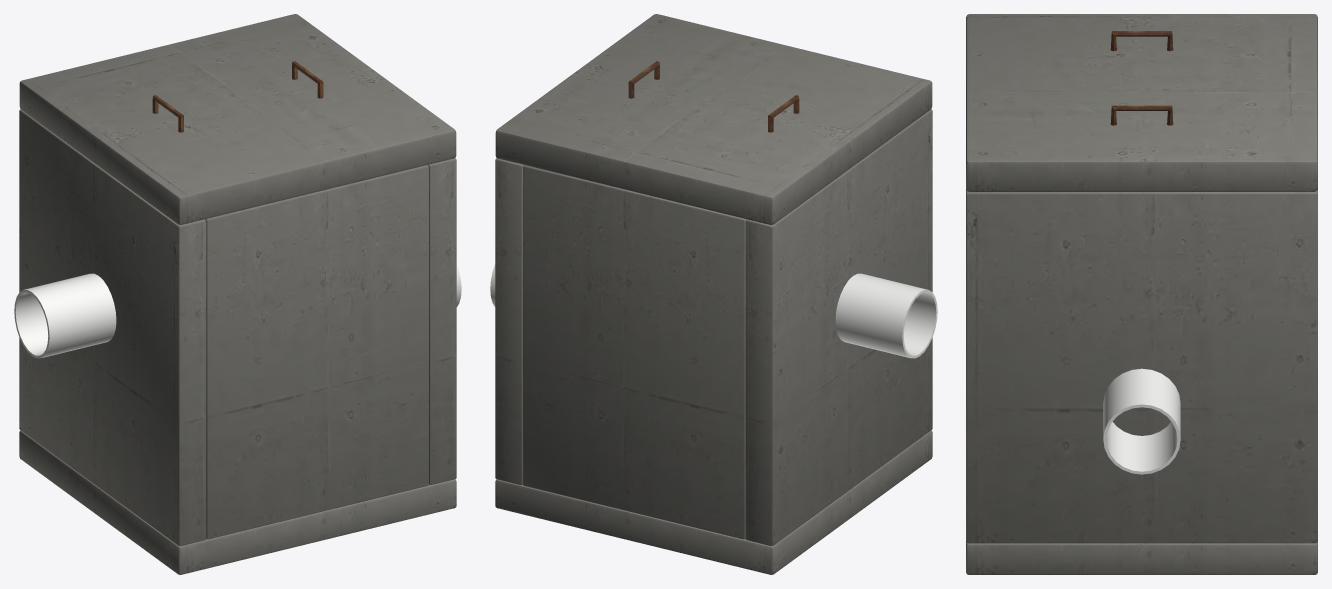
File: HID-CXS-004.glb
3 views of the same model, side by side, from view 1: azimuth 30°, elevation 25°; view 2: azimuth 150°, elevation 25°; view 3: azimuth 270°, elevation 25° (orthographic). The views are drawn at different scales.
Parts seen in each view (by area): view 1: HID-CXS-004_py-1, HID-CXS-004_tampa, HID-CXS-004_px-1, HID-CXS-004_fundo, HID-CXS-004_px1, HID-CXS-004_ent; view 2: HID-CXS-004_py1, HID-CXS-004_tampa, HID-CXS-004_px-1, HID-CXS-004_fundo, HID-CXS-004_px1, HID-CXS-004_ent; view 3: HID-CXS-004_px1, HID-CXS-004_tampa, HID-CXS-004_fundo, HID-CXS-004_sai, HID-CXS-004_alca1, HID-CXS-004_alca-1.
Part boxes in pixels (<box>): HID-CXS-004_py-1: <box>205,165,428,539</box>; HID-CXS-004_tampa: <box>19,14,456,224</box>; HID-CXS-004_px-1: <box>19,109,206,546</box>; HID-CXS-004_fundo: <box>19,430,456,574</box>; HID-CXS-004_px1: <box>428,158,456,484</box>; HID-CXS-004_ent: <box>14,273,116,358</box>; HID-CXS-004_py1: <box>523,165,746,539</box>; HID-CXS-004_tampa: <box>495,14,932,224</box>; HID-CXS-004_px-1: <box>745,109,932,546</box>; HID-CXS-004_fundo: <box>495,430,932,574</box>; HID-CXS-004_px1: <box>495,158,523,484</box>; HID-CXS-004_ent: <box>835,273,937,358</box>; HID-CXS-004_px1: <box>966,189,1317,543</box>; HID-CXS-004_tampa: <box>966,14,1317,191</box>; HID-CXS-004_fundo: <box>966,542,1317,574</box>; HID-CXS-004_sai: <box>1103,368,1180,474</box>; HID-CXS-004_alca1: <box>1110,105,1173,125</box>; HID-CXS-004_alca-1: <box>1110,31,1173,51</box>.
Bounding box in the file's own units: 0.74 × 0.6781 × 0.5.
Materials: 3 (2 with a texture image).
